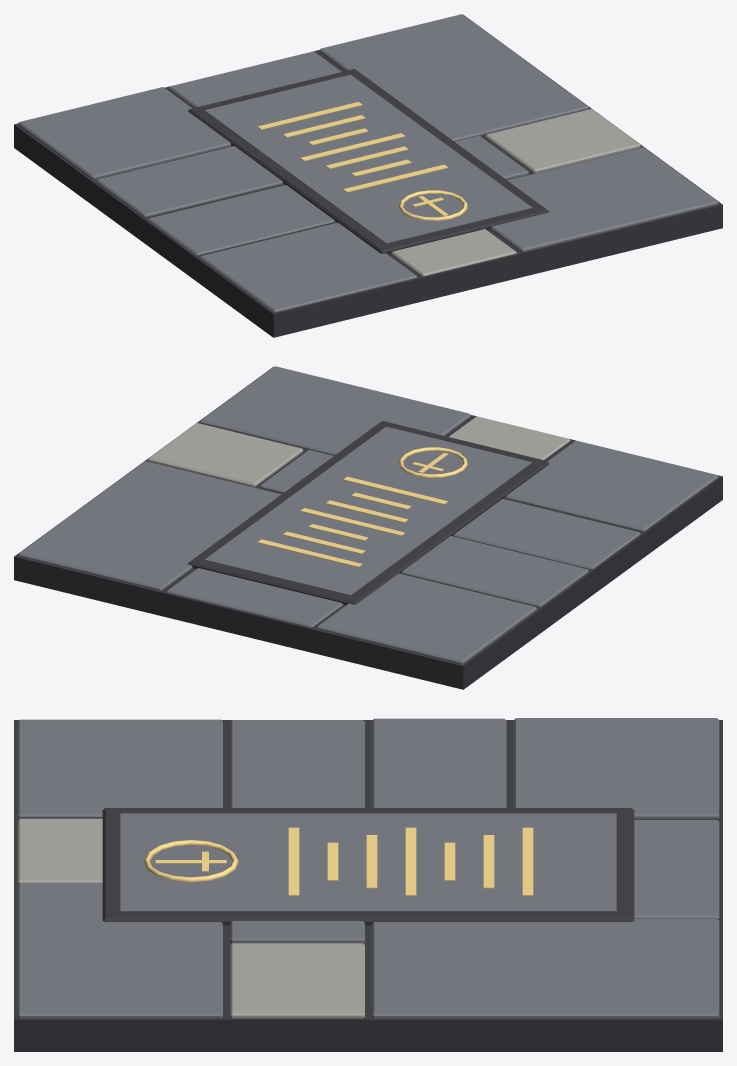
Rendered from floor_cr_grave.glb.
3 views of the same model, one above another, from view 1: azimuth 30°, elevation 25°; view 2: azimuth 150°, elevation 25°; view 3: azimuth 270°, elevation 25° (orthographic). The views are drawn at different scales.
Visible parts, largest first — view 1: floor_cr_grave; view 2: floor_cr_grave; view 3: floor_cr_grave.
Part boxes in pixels (x1=…): floor_cr_grave: x1=14, y1=14, x2=722, y2=337; floor_cr_grave: x1=14, y1=366, x2=722, y2=689; floor_cr_grave: x1=14, y1=718, x2=722, y2=1051.
Size of the model in its own units: 4 by 0.27 by 4.
